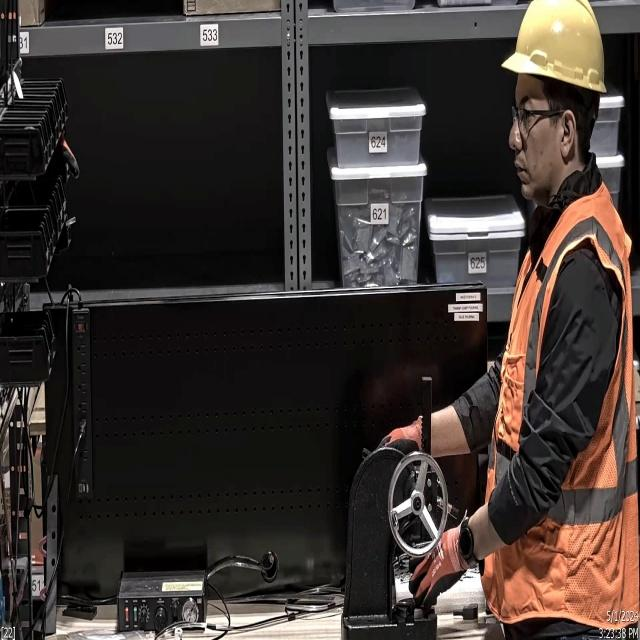construction-gloves: (408, 526, 462, 612)
